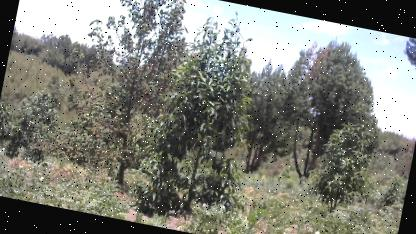tree: (134, 4, 272, 234), (254, 31, 394, 222), (63, 0, 195, 190)
